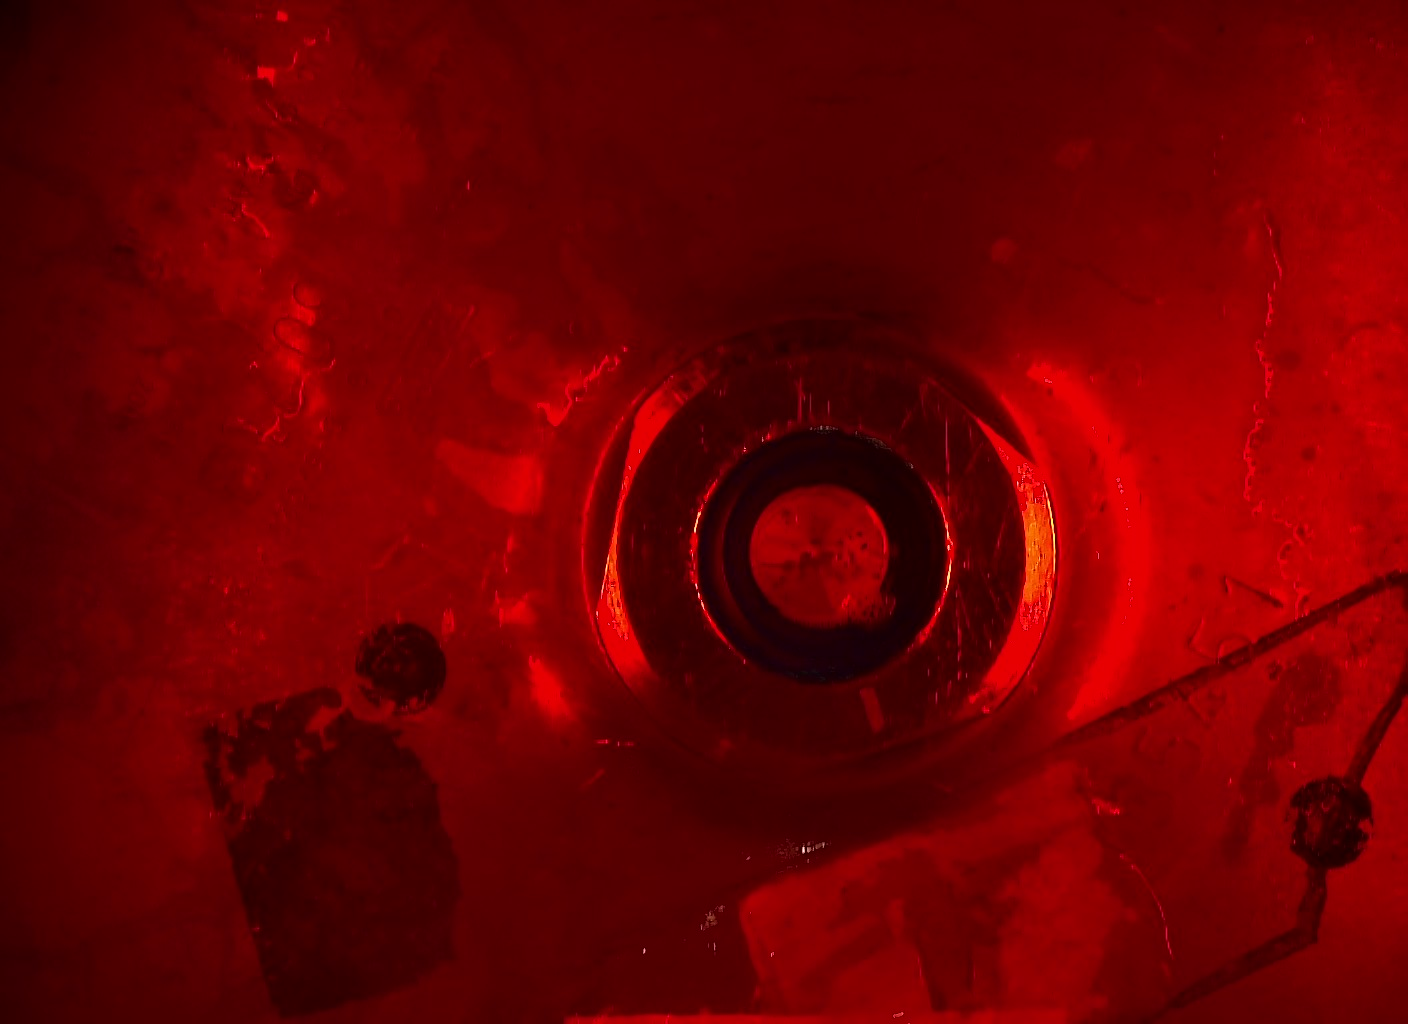pena: (825, 564, 904, 632)
